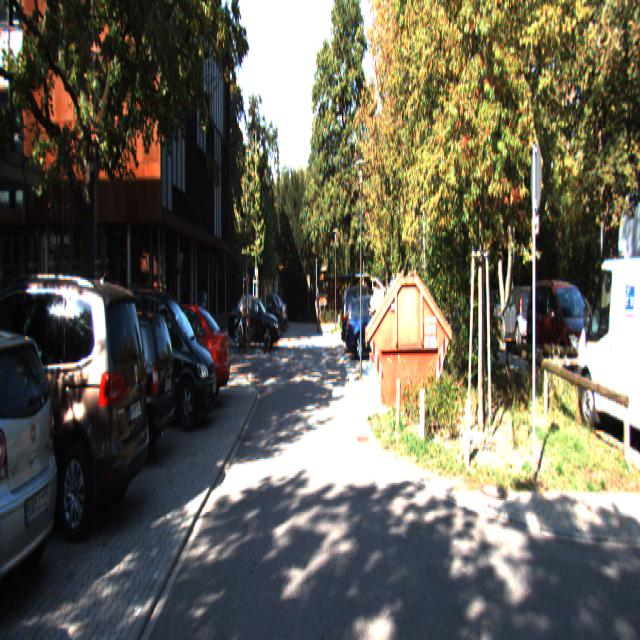Car: (0, 266, 154, 540), (21, 298, 179, 470), (0, 313, 68, 636), (103, 279, 219, 431), (572, 252, 640, 468), (128, 300, 232, 410), (524, 276, 610, 392), (341, 282, 395, 352), (346, 292, 402, 358), (229, 298, 282, 352)
